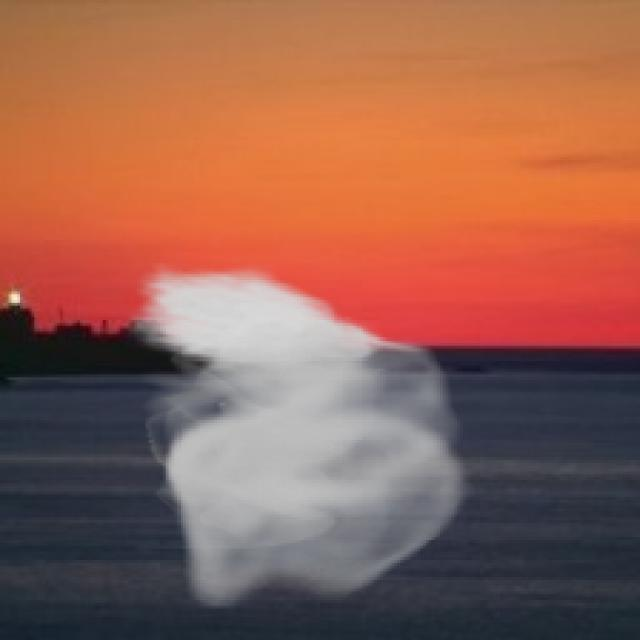Smoke: (122, 262, 478, 608)
